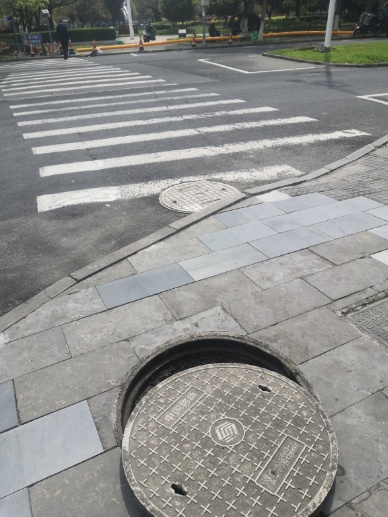good: (159, 182, 247, 211)
uncovered: (116, 333, 337, 515)
